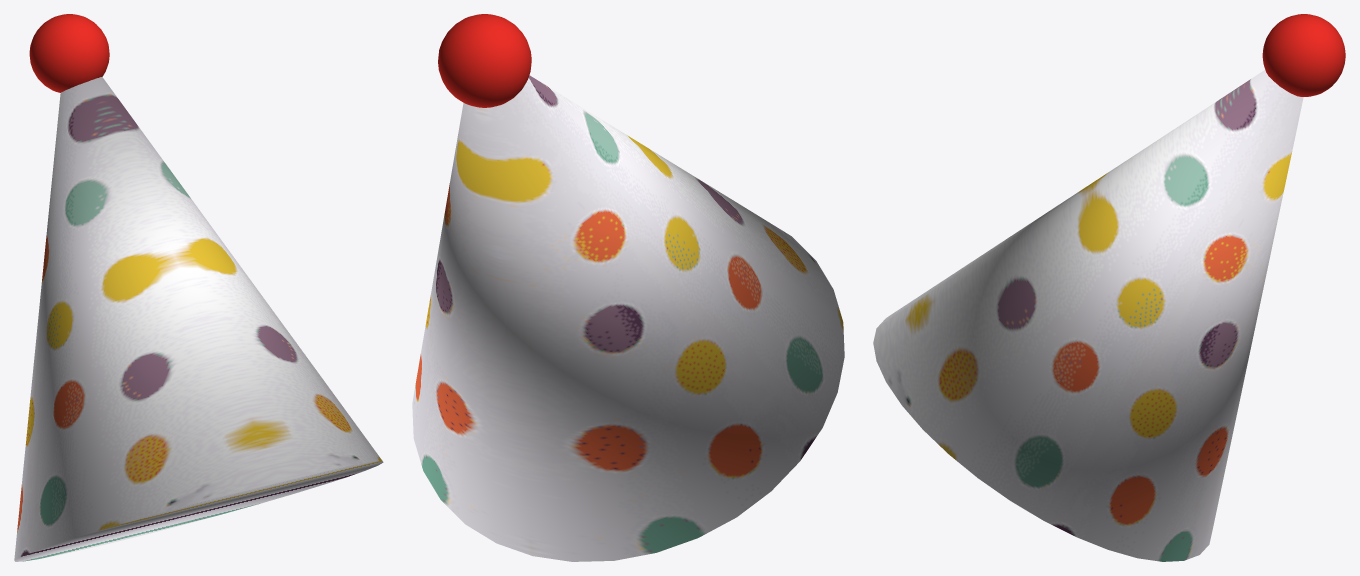
Rendered from Partyhat.glb.
3 views of the same model, side by side, from view 1: azimuth 30°, elevation 25°; view 2: azimuth 150°, elevation 25°; view 3: azimuth 270°, elevation 25° (orthographic). The views are drawn at different scales.
Parts seen in each view (by area): view 1: Partyhat; view 2: Partyhat; view 3: Partyhat.
Part boxes in pixels (bbox=[...]): Partyhat: bbox=[14, 14, 383, 561]; Partyhat: bbox=[412, 14, 844, 561]; Partyhat: bbox=[873, 14, 1345, 561].
Bounding box in the file's own units: 0.5346 × 0.7579 × 0.6359.
2 materials, 1 textured.
